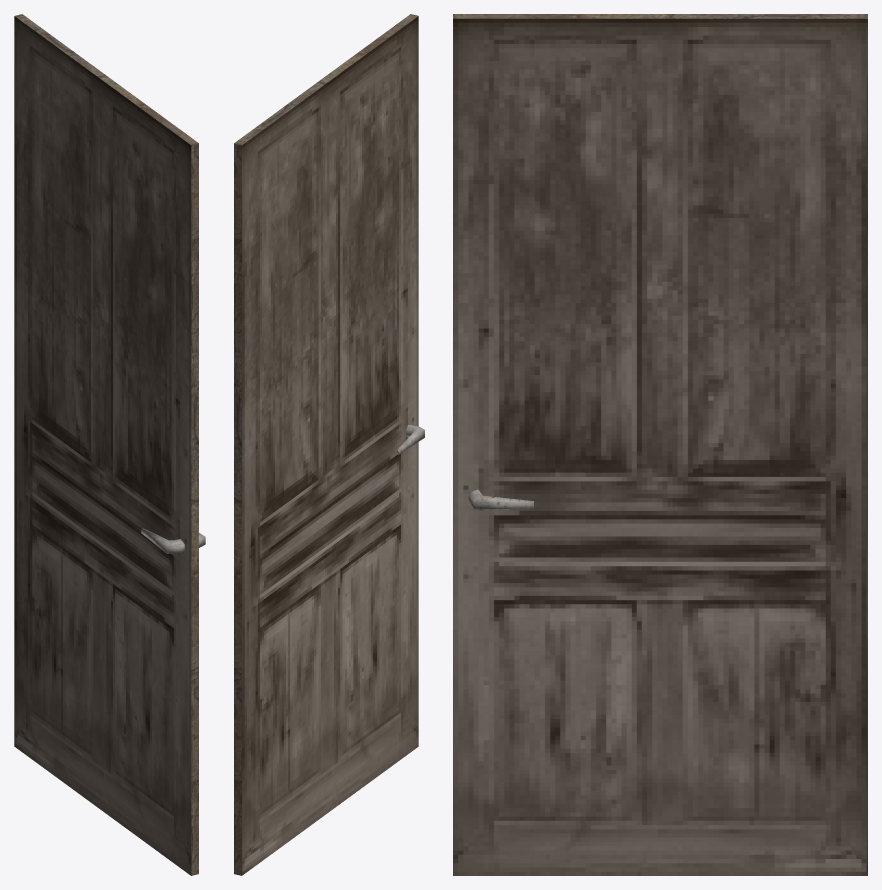
The model's file is _Door_Single_1.FBX.
The picture shows the model from 3 angles, left to right: view 1: azimuth 30°, elevation 25°; view 2: azimuth 150°, elevation 25°; view 3: azimuth 270°, elevation 25°; orthographic projection. The views are drawn at different scales.
Parts seen in each view (by area): view 1: _Door_Single_1; view 2: _Door_Single_1; view 3: _Door_Single_1.
Part boxes in pixels (x1,y1,x2,y2): _Door_Single_1: (14,14,205,875); _Door_Single_1: (234,14,424,875); _Door_Single_1: (453,14,867,875).
Bounding box in the file's own units: 9.31 × 169 × 73.92.
Materials: 3 (3 with a texture image).
